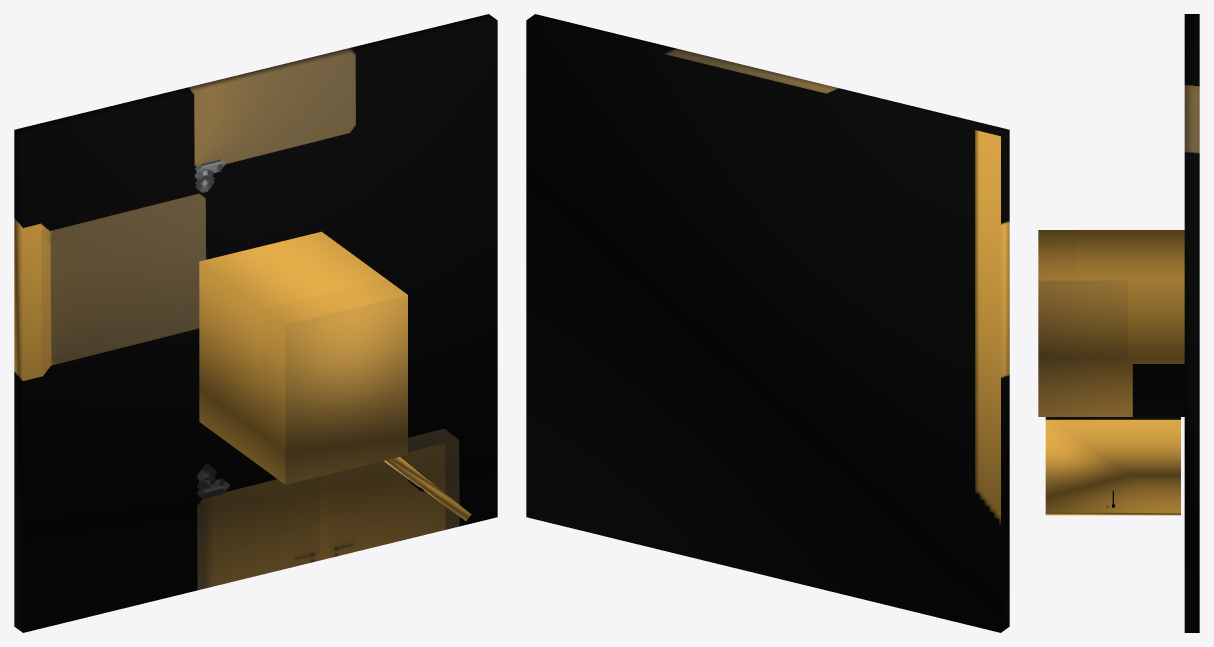
Rendered from goal.fbx.
3 views of the same model, side by side, from view 1: azimuth 30°, elevation 25°; view 2: azimuth 150°, elevation 25°; view 3: azimuth 270°, elevation 25° (orthographic). The views are drawn at different scales.
Parts seen in each view (by area): view 1: goal; view 2: goal; view 3: goal.
Part boxes in pixels (<box>): goal: <box>14,14,497,632</box>; goal: <box>526,14,1009,632</box>; goal: <box>1038,14,1199,632</box>.
Bounding box in the file's own units: 6.2 × 6.2 × 2.15.
1 material, 1 textured.
